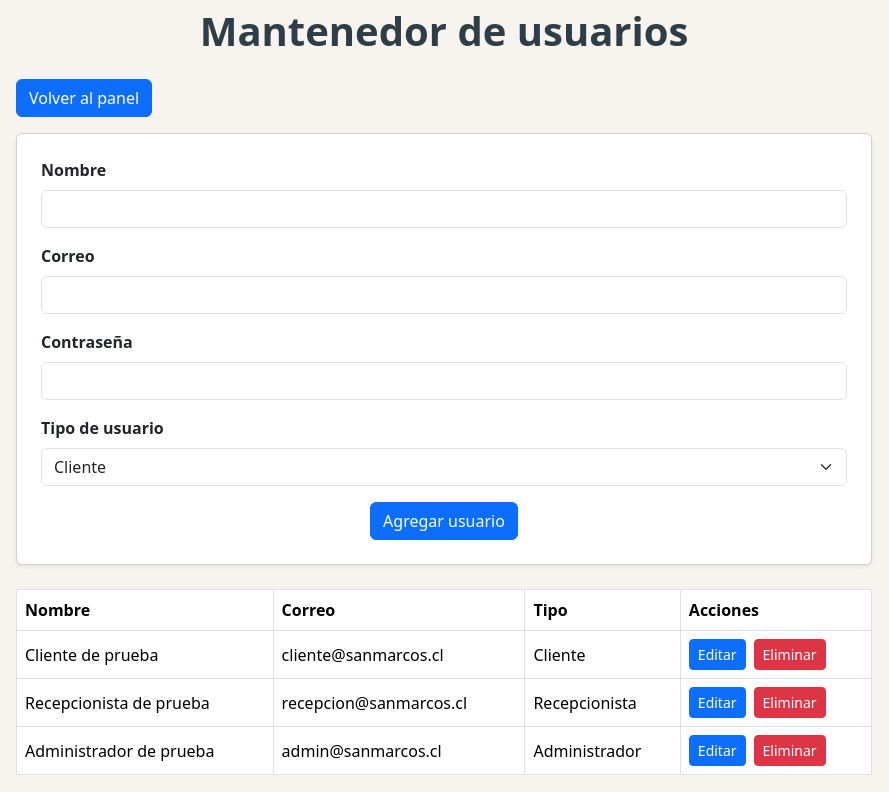
Test: edita un usuario que ya existe
# Editar pasa los datos del primer usuario al formulario
Click the button "Editar" in the row of "Cliente de prueba": point(717, 654) [689,639,746,670]
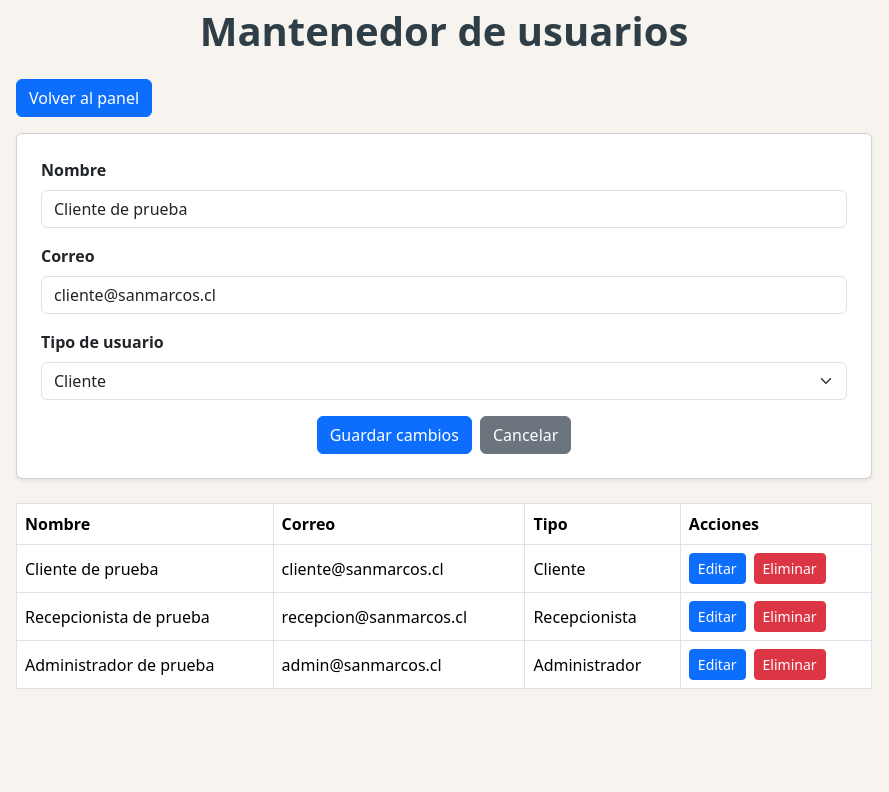
# Cambiamos el nombre y guardamos
Replace the text in the field labelled "Nombre" with "Cliente editado": point(444, 209) [41,190,847,228]
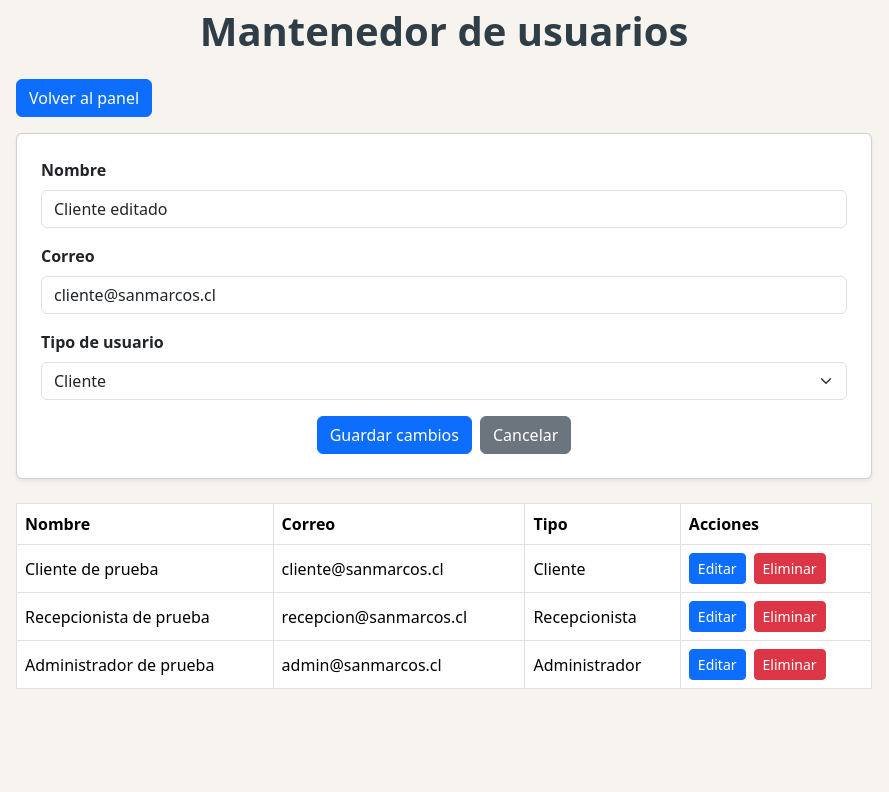
Click the button "Guardar cambios": point(394, 435) [317,416,472,454]
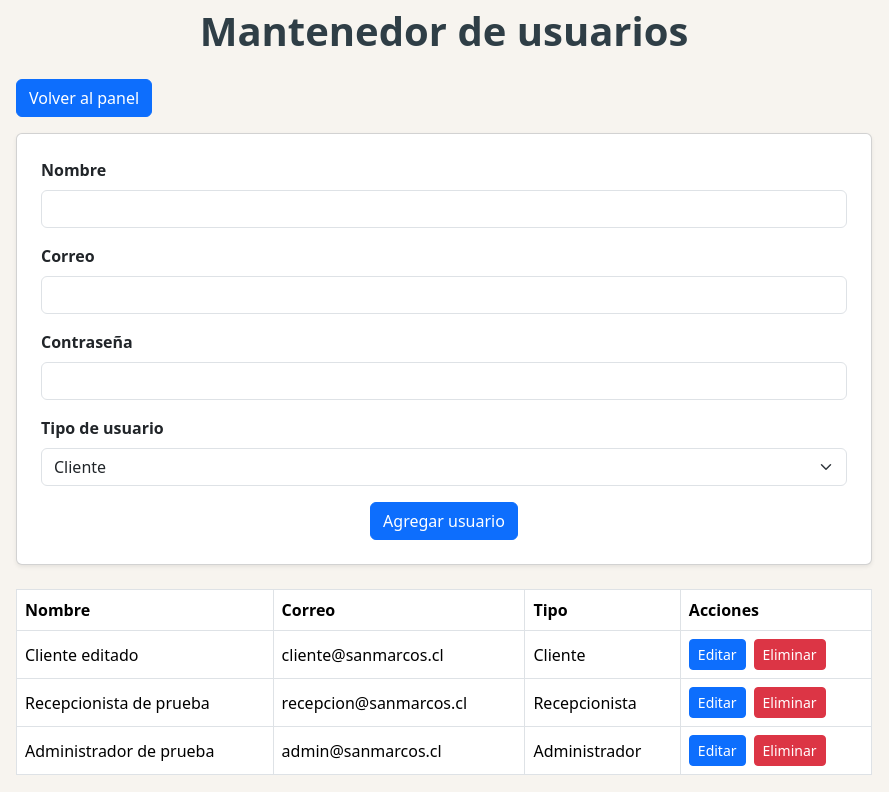
Expected: the text "Cliente editado" is shown, [16,630,273,678]
Expected: the text "Cliente de prueba" is gone
